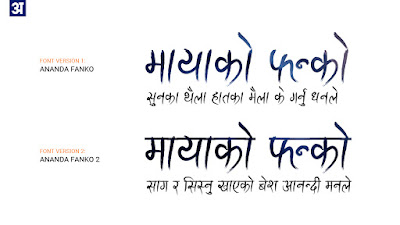text: (144, 122, 256, 174), (146, 32, 253, 85), (268, 122, 352, 172), (269, 32, 349, 84), (282, 176, 322, 193), (217, 175, 254, 193), (182, 176, 214, 195), (146, 90, 180, 107), (211, 90, 245, 105), (311, 86, 339, 104), (324, 175, 352, 193), (184, 86, 207, 105), (248, 87, 270, 106), (145, 179, 170, 194), (257, 175, 279, 192), (289, 88, 308, 107), (274, 86, 286, 105), (171, 179, 181, 194)
